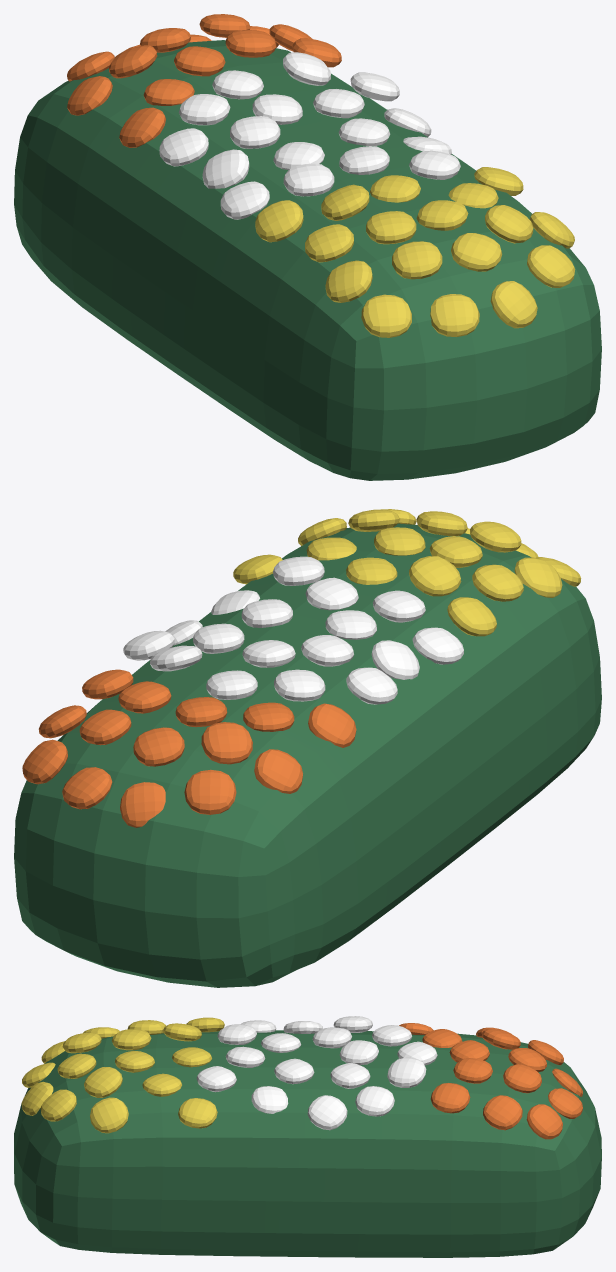
The model's file is Flowers.fbx.
3 renders of one model, top to bottom at view 1: azimuth 30°, elevation 25°; view 2: azimuth 150°, elevation 25°; view 3: azimuth 270°, elevation 25°, orthographic. The views are drawn at different scales.
Visible parts, largest first — view 1: Flowers; view 2: Flowers; view 3: Flowers.
Part boxes in pixels (bbox=[...]): Flowers: bbox=[14, 14, 601, 480]; Flowers: bbox=[14, 509, 601, 987]; Flowers: bbox=[14, 1016, 601, 1257].
Size of the model in its own units: 0.7095 by 0.5622 by 1.64.
